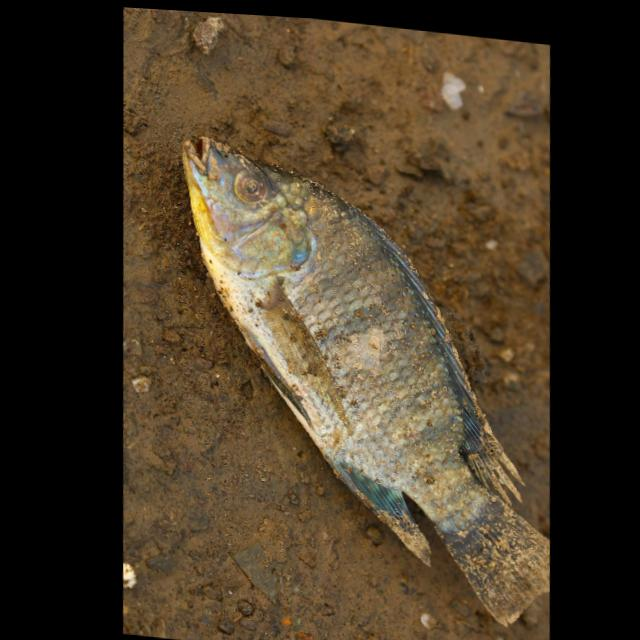Tilapia: (157, 131, 574, 633)
